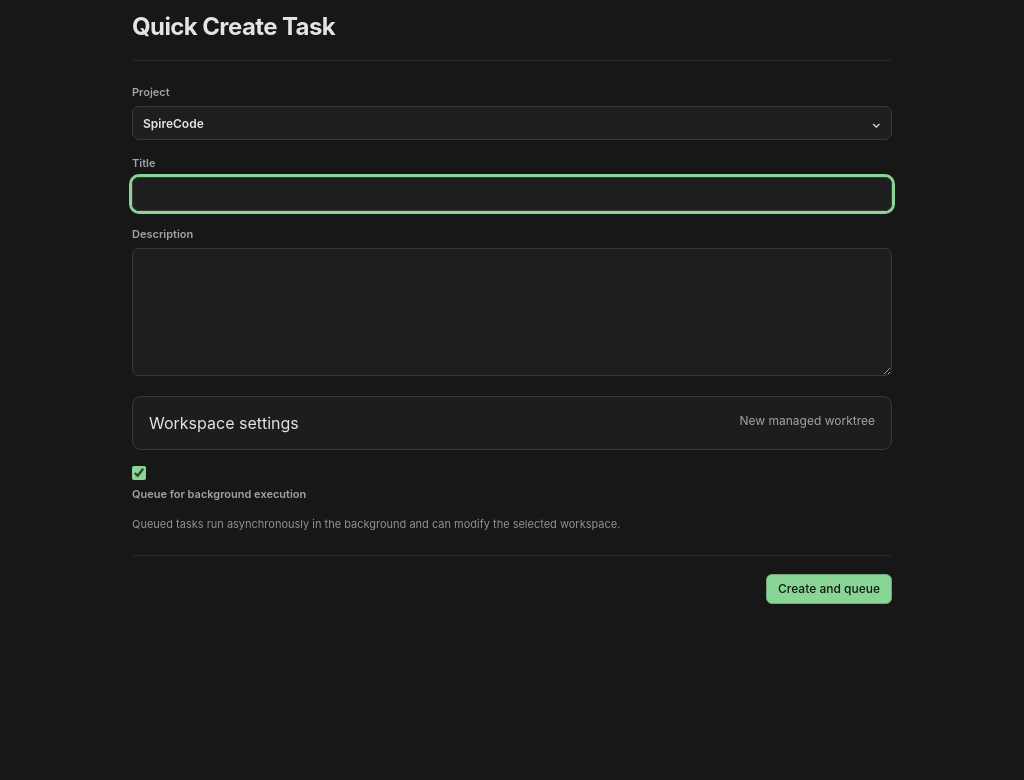
Test: TaskForm › searches projects by name before selecting one
Click the button with aria-label "Project: SpireCode": click(173, 123) x1=132 y1=106 x2=892 y2=140
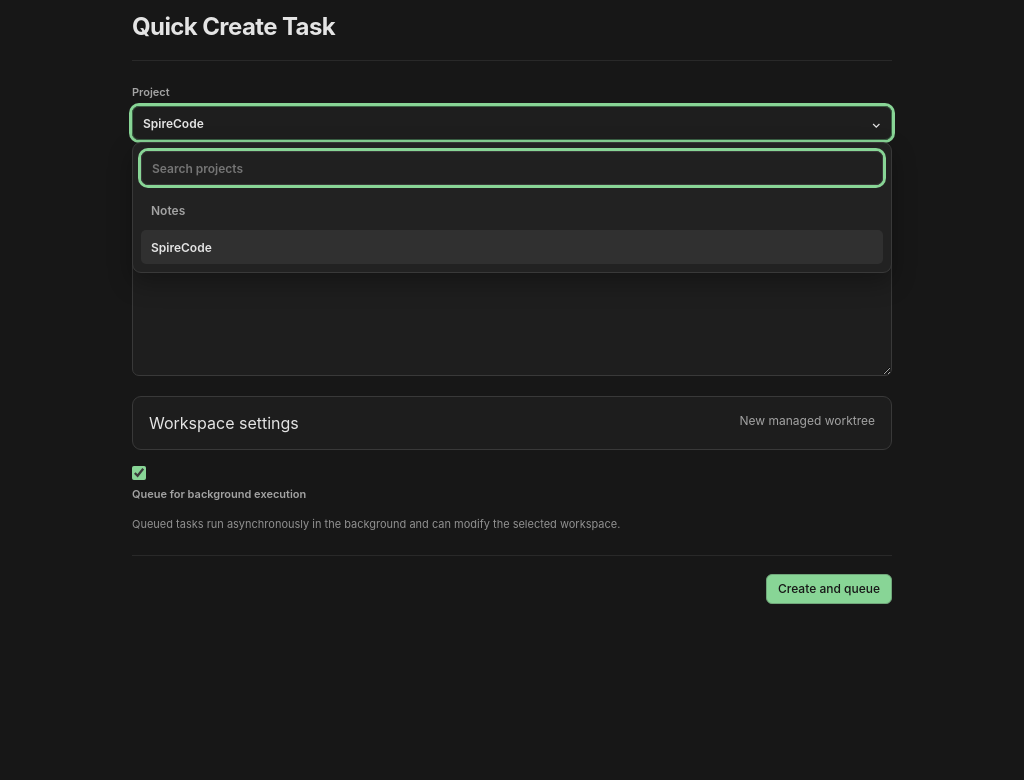
In the dropdown labelled "Search projects": (512, 168) x1=141 y1=151 x2=883 y2=185, type "  NOTES  "
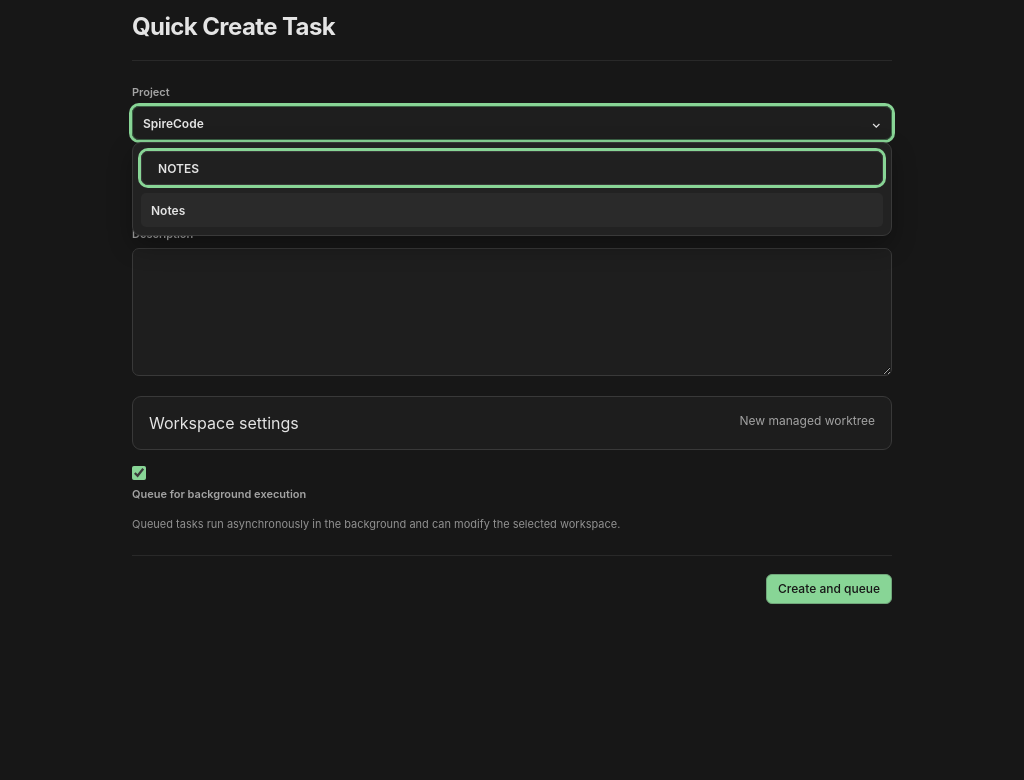
expect the option "Notes" is shown: met
Click the option "Notes": click(168, 210) x1=141 y1=193 x2=883 y2=227
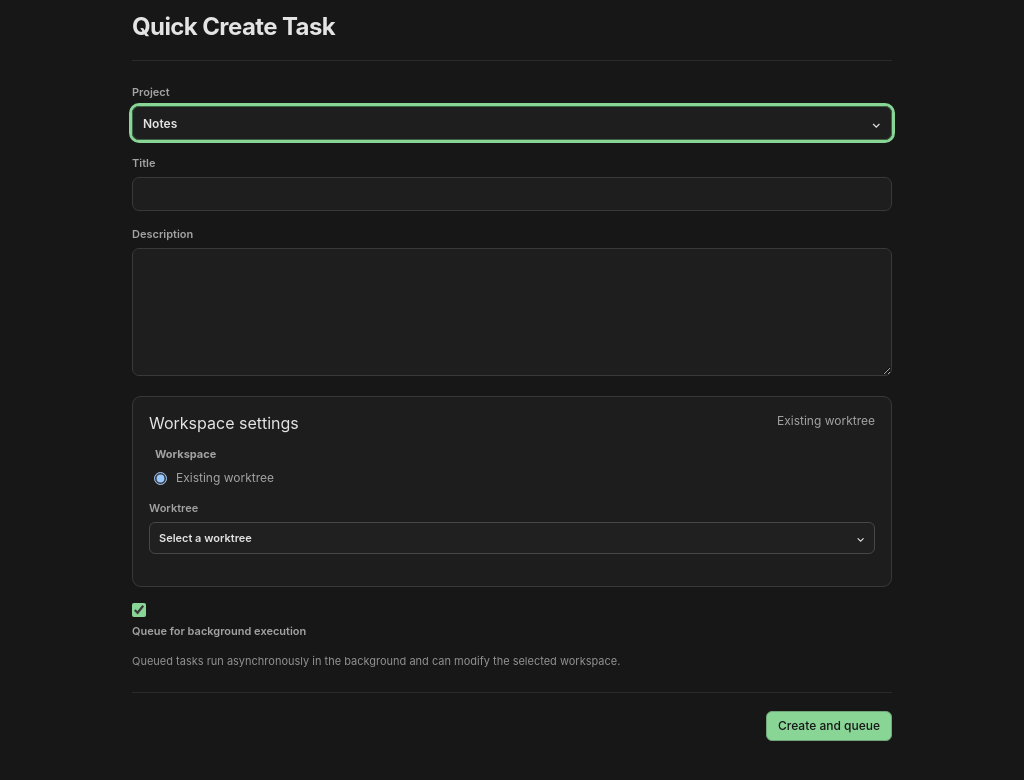
expect the button with aria-label "Project: Notes" is shown: met, box x1=132 y1=106 x2=892 y2=140
expect the heading "New managed worktree" is gone: met
